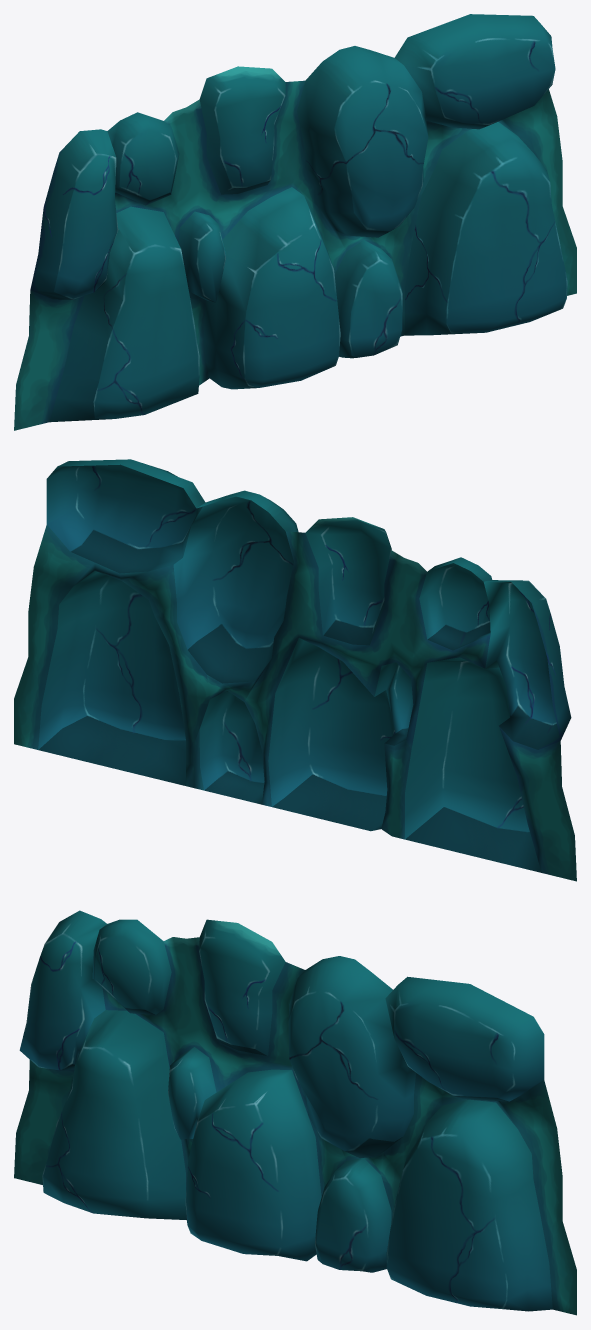
The model's file is wall_flat.fbx.
The picture shows the model from 3 angles, top to bottom: view 1: azimuth 30°, elevation 25°; view 2: azimuth 150°, elevation 25°; view 3: azimuth 330°, elevation 25°; orthographic projection.
Parts seen in each view (by area): view 1: Cube.054; view 2: Cube.054; view 3: Cube.054.
Boxes of the visible parts, x1,y1,x2,y2 form: Cube.054: (14, 14, 576, 430); Cube.054: (14, 459, 576, 881); Cube.054: (14, 910, 576, 1315).
Bounding box in the file's own units: 1036 × 545 × 109.
